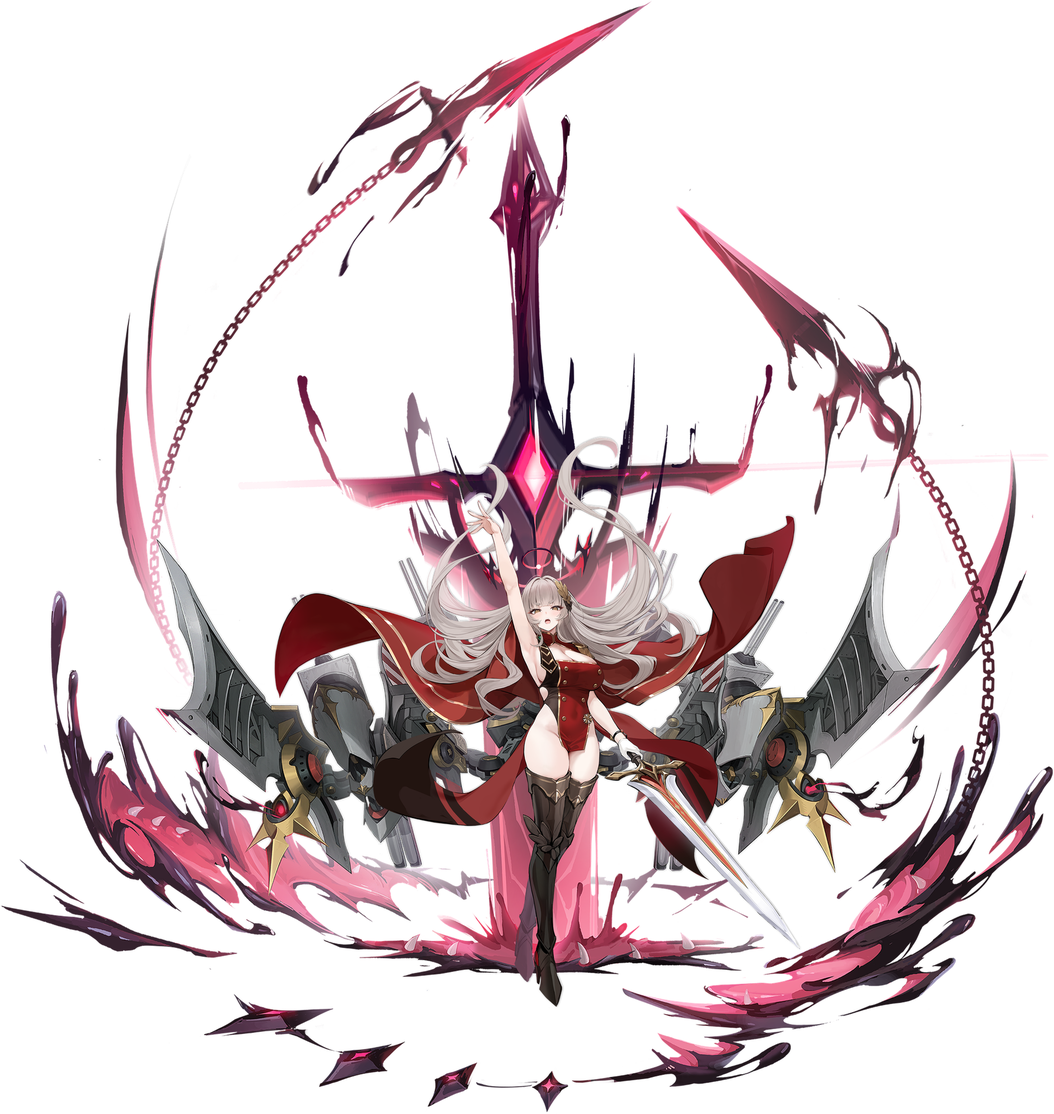person: (452, 487, 731, 1056)
